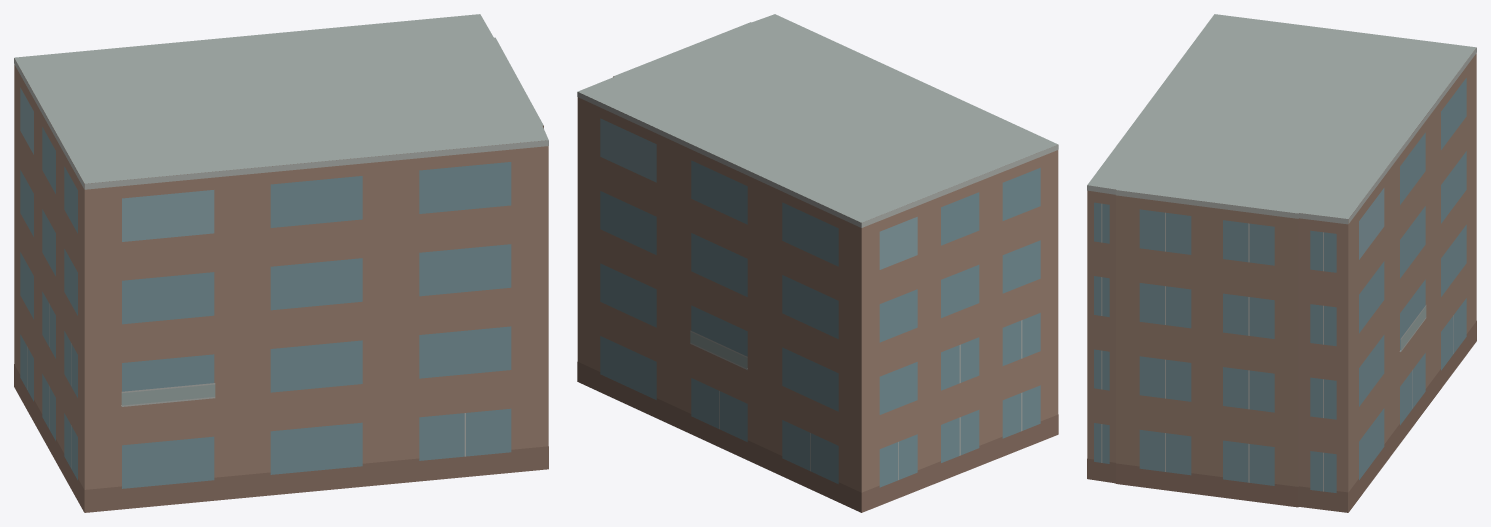
Rendered from survey-upis-32804466.glb.
3 renders of one model, left to right at view 1: azimuth 30°, elevation 25°; view 2: azimuth 150°, elevation 25°; view 3: azimuth 270°, elevation 25°, orthographic. The views are drawn at different scales.
Parts seen in each view (by area): view 1: survey-upis-32804466.tmp; view 2: survey-upis-32804466.tmp; view 3: survey-upis-32804466.tmp.
Boxes of the visible parts, x1=… form: survey-upis-32804466.tmp: x1=14, y1=14, x2=548, y2=512; survey-upis-32804466.tmp: x1=577, y1=14, x2=1058, y2=512; survey-upis-32804466.tmp: x1=1087, y1=14, x2=1476, y2=512.
Size of the model in its own units: 20.1 by 13.42 by 16.14.
